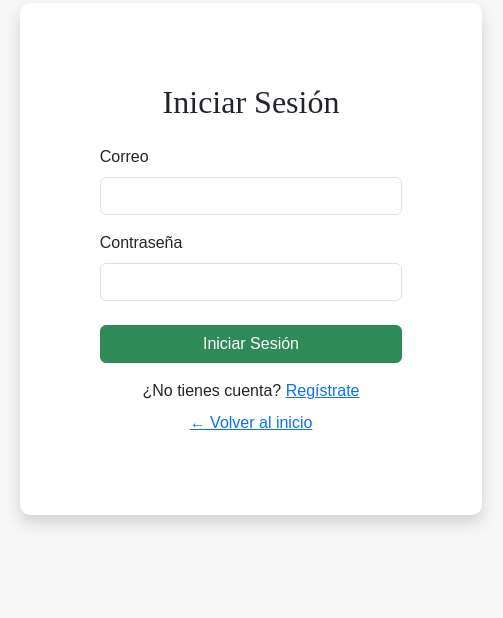
Test: Pruebas para Login (Tienda) › CP3: Debe mostrar error si las credenciales son inválidas
Type "fallo@huerto.cl" into the field labelled "Correo" at coordinates (251, 196), box left=100, top=177, right=402, bottom=215
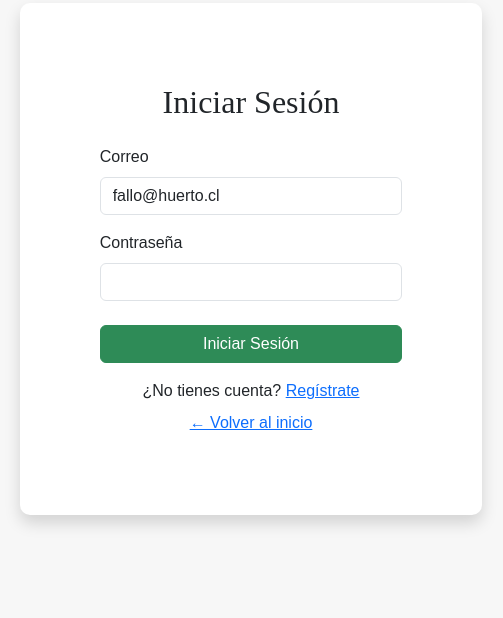
Type "clavemala" into the password field labelled "Contraseña" at coordinates (251, 282), box left=100, top=263, right=402, bottom=301
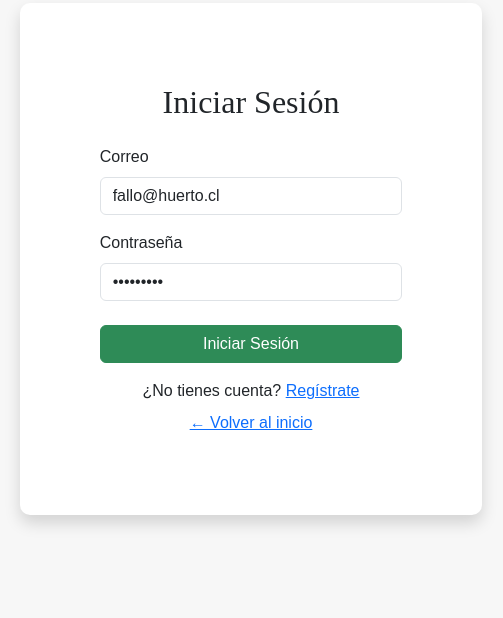
Submit the form from the button "Iniciar Sesión", box left=100, top=325, right=402, bottom=363
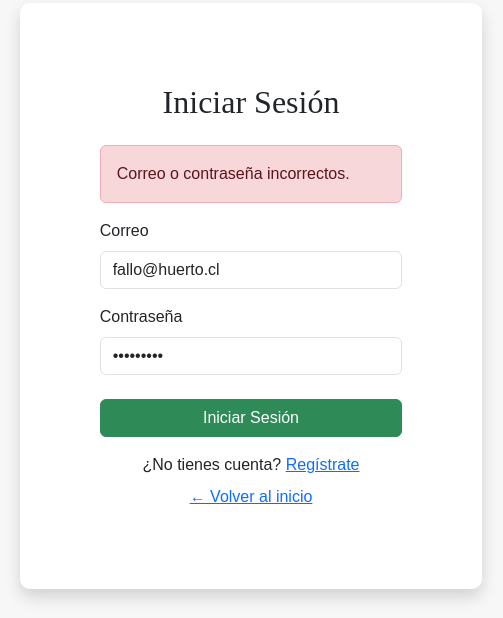
expect the text "Correo o contraseña incorrectos." is shown: met, box left=100, top=145, right=402, bottom=203
